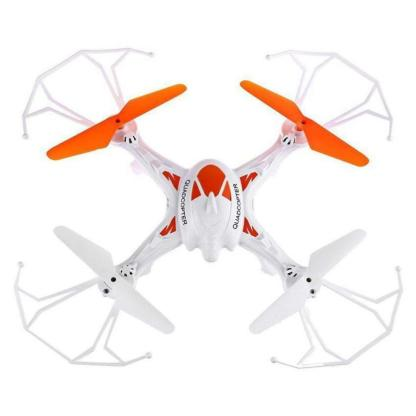drone: (17, 50, 402, 362)
